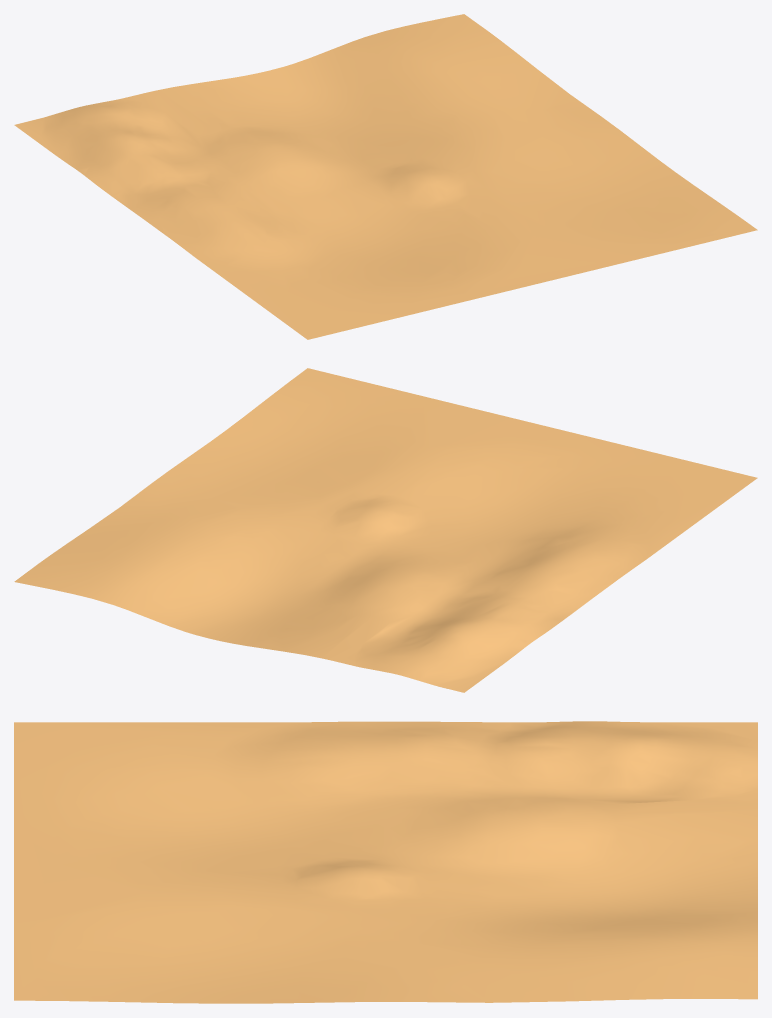
The model's file is place2.fbx.
The picture shows the model from 3 angles, top to bottom: view 1: azimuth 30°, elevation 25°; view 2: azimuth 150°, elevation 25°; view 3: azimuth 270°, elevation 25°; orthographic projection. The views are drawn at different scales.
Parts seen in each view (by area): view 1: Desert.004; view 2: Desert.004; view 3: Desert.004.
Boxes of the visible parts, x1=… form: Desert.004: x1=14, y1=14, x2=757, y2=339; Desert.004: x1=14, y1=368, x2=757, y2=692; Desert.004: x1=14, y1=721, x2=757, y2=1003.
Bounding box in the file's own units: 85.01 × 4.61 × 96.05.
